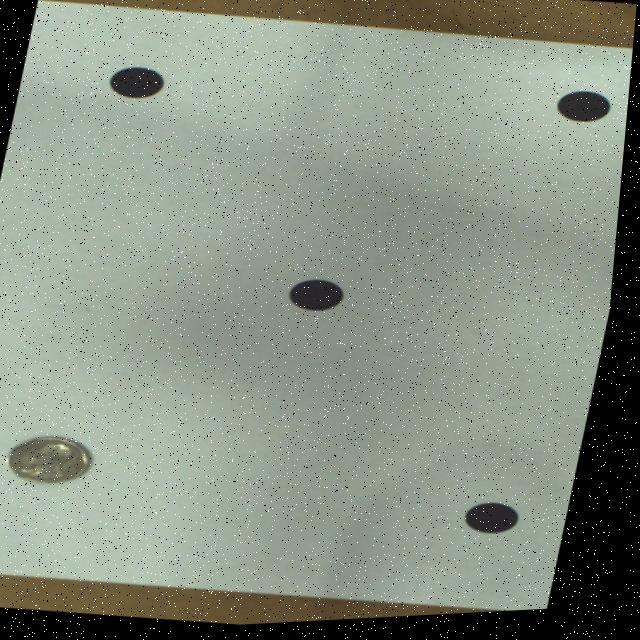head5bath: (17, 438, 98, 484)
space: (295, 283, 349, 315), (474, 508, 528, 539), (558, 97, 611, 128), (111, 68, 164, 99)
